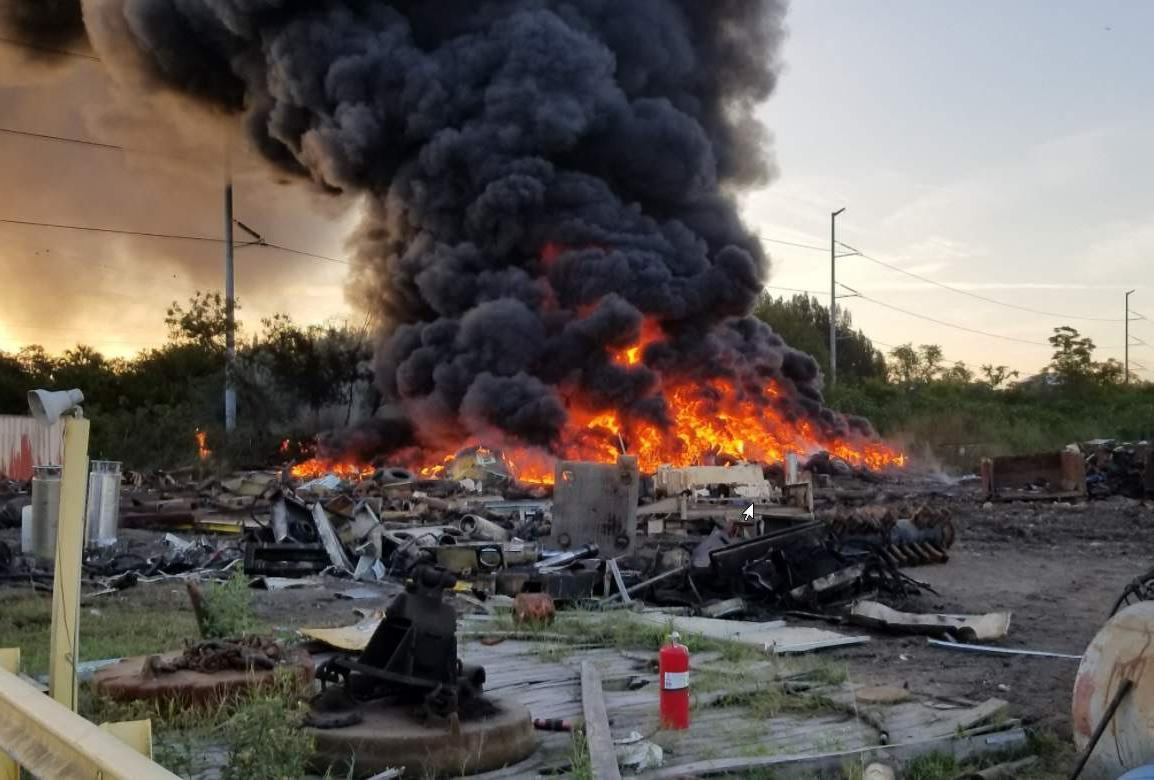Fire: (253, 366, 930, 499), (591, 311, 673, 379), (196, 435, 216, 460)
